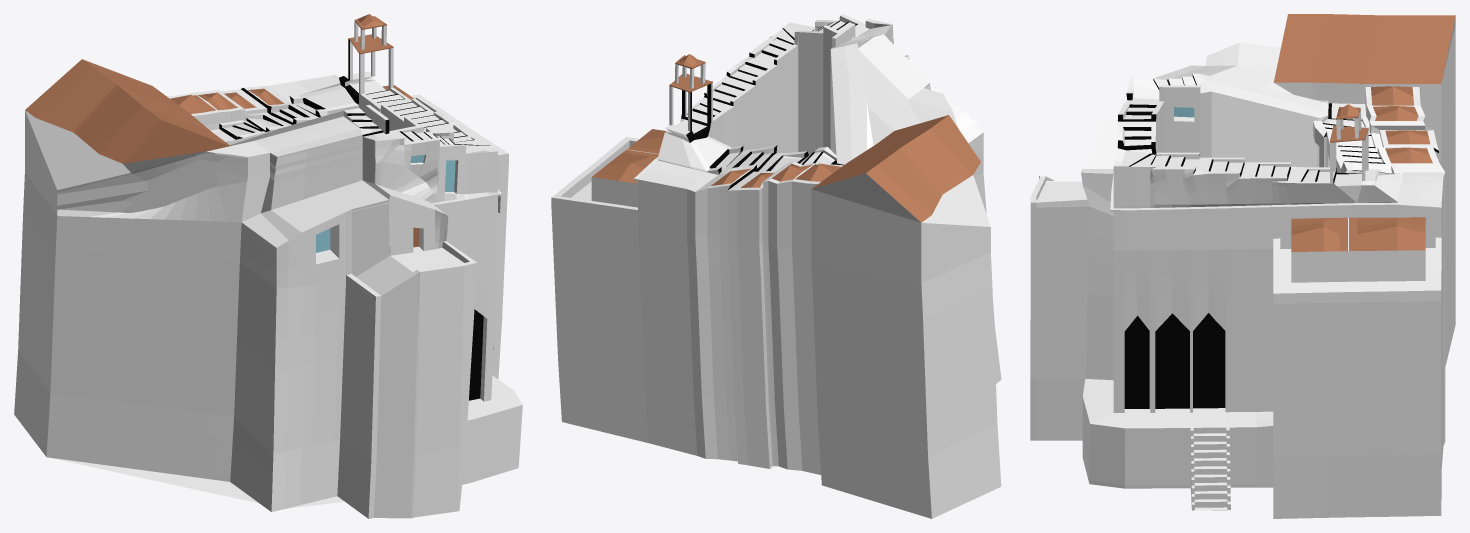
The model's file is rare building - tut.fbx.
3 views of the same model, side by side, from view 1: azimuth 30°, elevation 25°; view 2: azimuth 150°, elevation 25°; view 3: azimuth 270°, elevation 25° (orthographic). The views are drawn at different scales.
Visible parts, largest first — view 1: Plane; view 2: Plane; view 3: Plane.
Part boxes in pixels (x1,y1,x2,y2): Plane: (14, 14, 522, 518); Plane: (551, 14, 1001, 518); Plane: (1030, 14, 1455, 518).
Bounding box in the file's own units: 1402 × 1155 × 1204.
